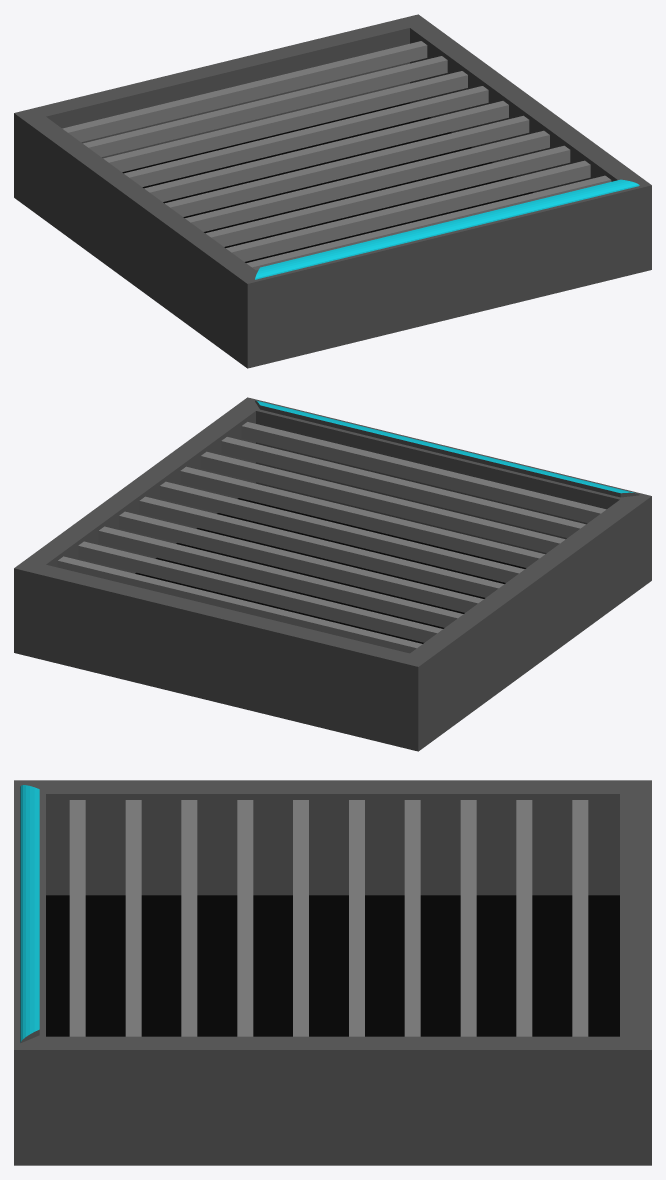
The model's file is Vent.fbx.
3 renders of one model, top to bottom at view 1: azimuth 30°, elevation 25°; view 2: azimuth 150°, elevation 25°; view 3: azimuth 270°, elevation 25°, orthographic. The views are drawn at different scales.
Visible parts, largest first — view 1: WindowTrap.002, Cube.001, Plane.001; view 2: WindowTrap.002, Cube.001, Plane.001; view 3: WindowTrap.002, Plane.001, Cube.001.
Boxes of the visible parts, x1=… form: WindowTrap.002: x1=14, y1=14, x2=651, y2=368; Cube.001: x1=62, y1=41, x2=611, y2=270; Plane.001: x1=122, y1=102, x2=533, y2=262; WindowTrap.002: x1=14, y1=397, x2=651, y2=751; Cube.001: x1=57, y1=422, x2=606, y2=653; Plane.001: x1=135, y1=498, x2=526, y2=643; WindowTrap.002: x1=14, y1=780, x2=651, y2=1165; Plane.001: x1=46, y1=895, x2=619, y2=1036; Cube.001: x1=69, y1=800, x2=588, y2=1036.
Size of the model in its own units: 200 by 42 by 200.
